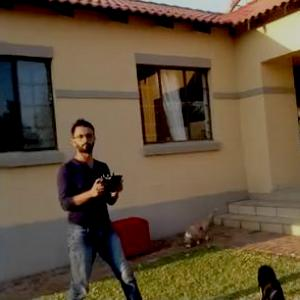follow: (51, 113, 145, 299)
null: (180, 203, 222, 250), (260, 260, 294, 299)
